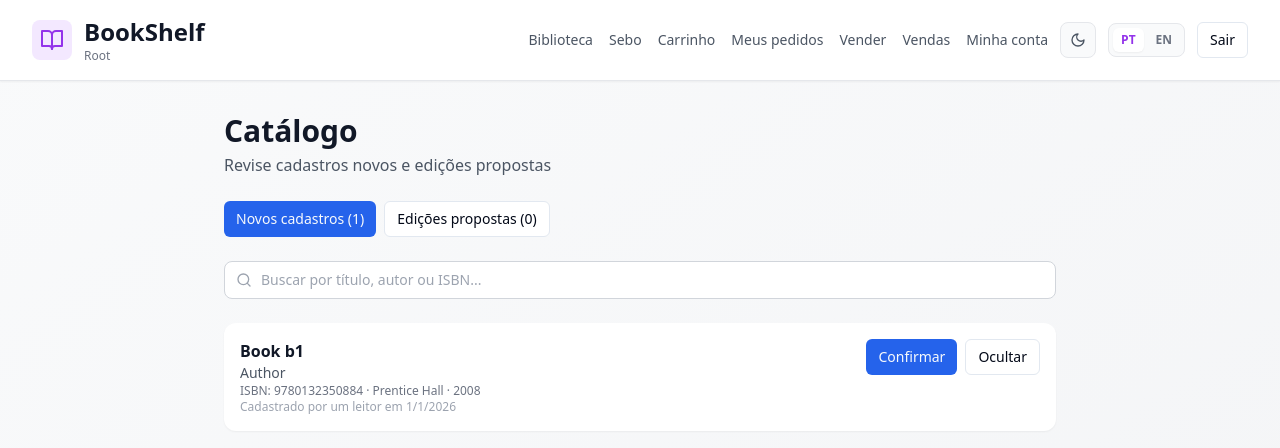
it: AdminCatalogPage proposed edits › shows an empty state
Check: the list item with test id "catalog-book-b1" is shown, box left=224, top=323, right=1056, bottom=431
Click the tab with test id "catalog-tab-revisions".
click(467, 219)  # box left=384, top=201, right=550, bottom=237
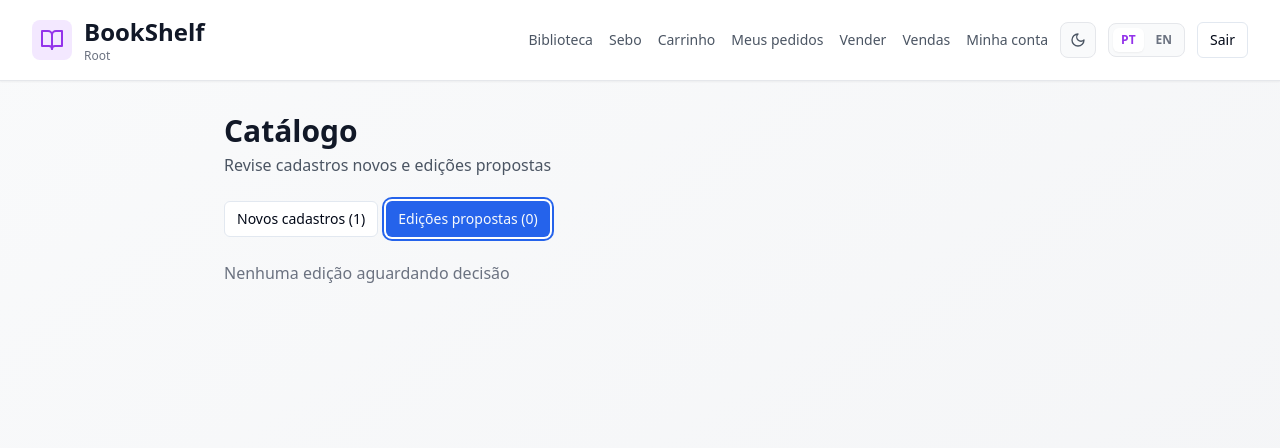
Check: the text "Nenhuma edição aguardando decisão" is shown, box left=224, top=262, right=510, bottom=284
